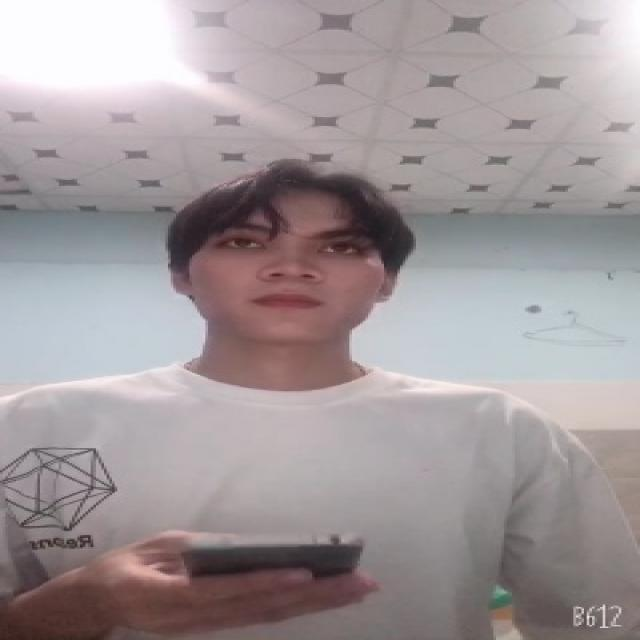Phone: (180, 529, 372, 579)
